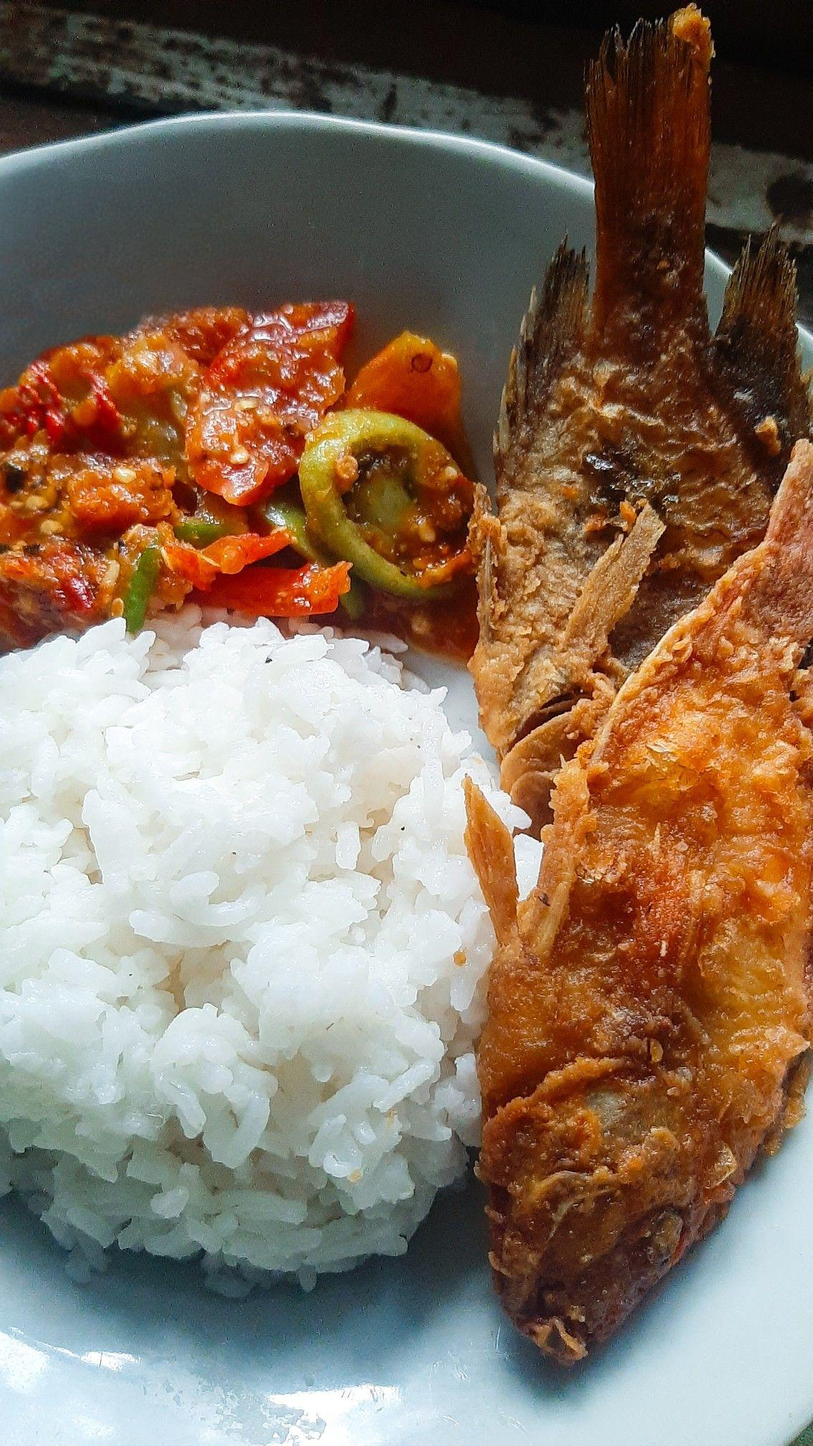buah_sayur_vitA: (14, 374, 358, 598)
daging: (539, 485, 806, 1177)
makanan_berpati: (11, 661, 379, 1172)
